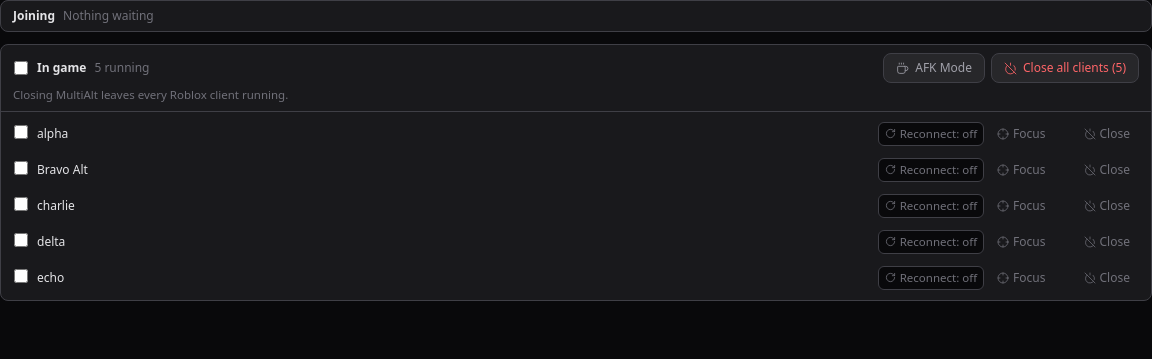
Test: SessionPanel — seleção em lote › shows the bulk bar under the rows, pinned to the bottom, so nothing above them moves
The width and height of the screenshot is (1152, 359).
Click the checkbox named "Select alpha": (21, 132) [14,125,28,139]
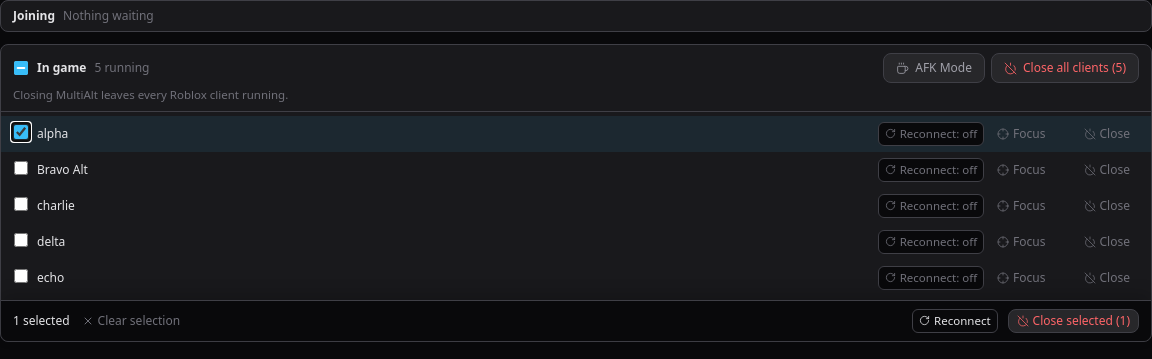
Expected: the text "1 selected" is shown, [13,312,70,330]
